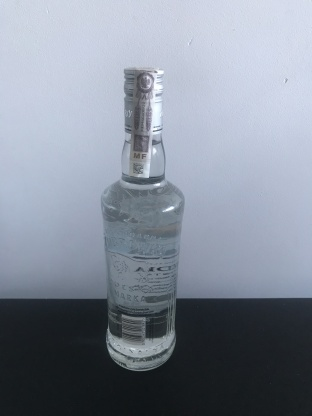nakretka: (120, 62, 166, 138)
